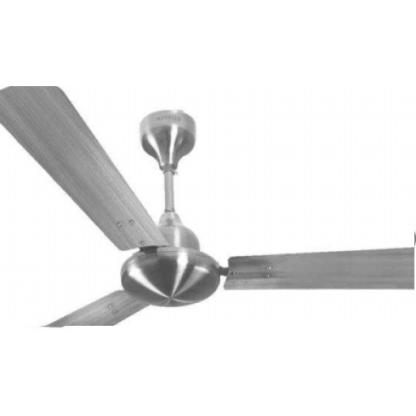ceiling-fan: (0, 86, 415, 327)
